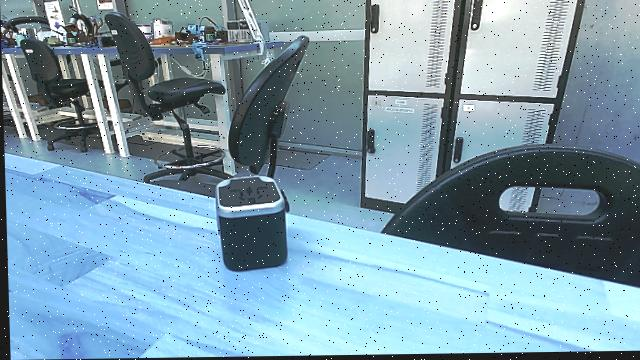adapter: (204, 173, 295, 279)
